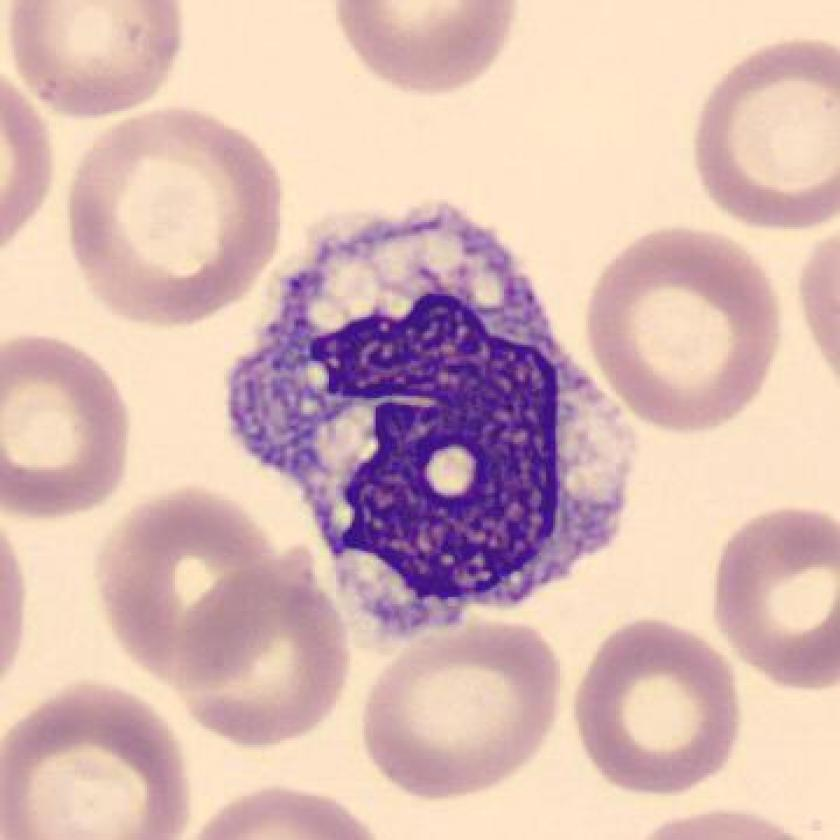monocyte: (197, 182, 668, 654)
